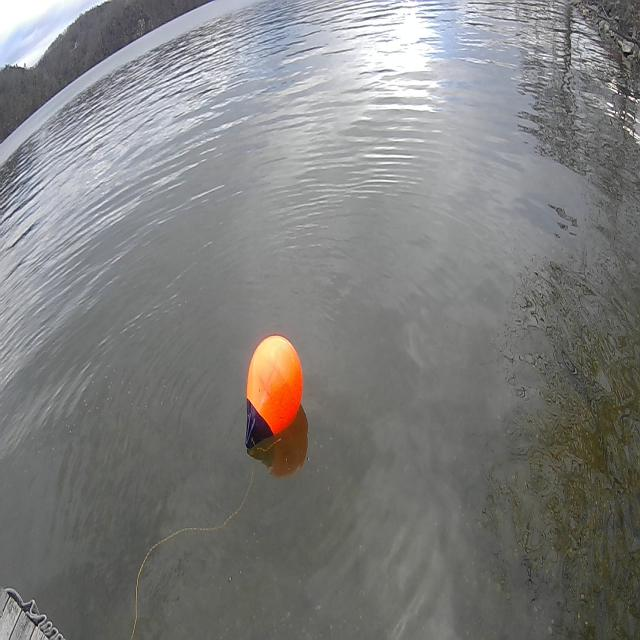Buoy: (240, 331, 308, 461)
